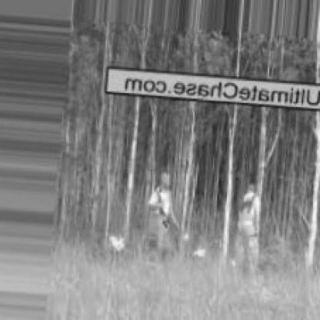Fire: (101, 231, 131, 251), (190, 238, 213, 260)
